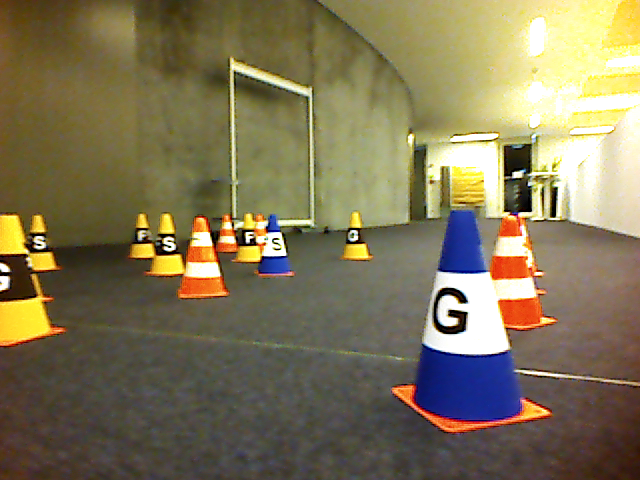bluecone: (395, 210, 555, 434)
orangeconesmall: (178, 215, 230, 298)
yellowcone: (147, 214, 182, 278), (339, 210, 375, 261), (33, 213, 63, 272), (128, 213, 155, 259)
